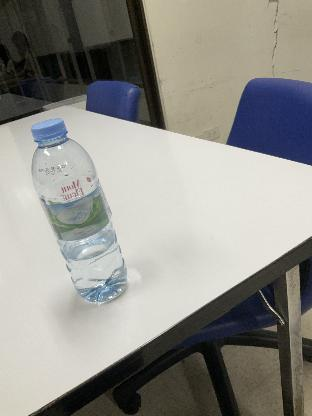Plastic Bottle: (30, 119, 128, 305)
